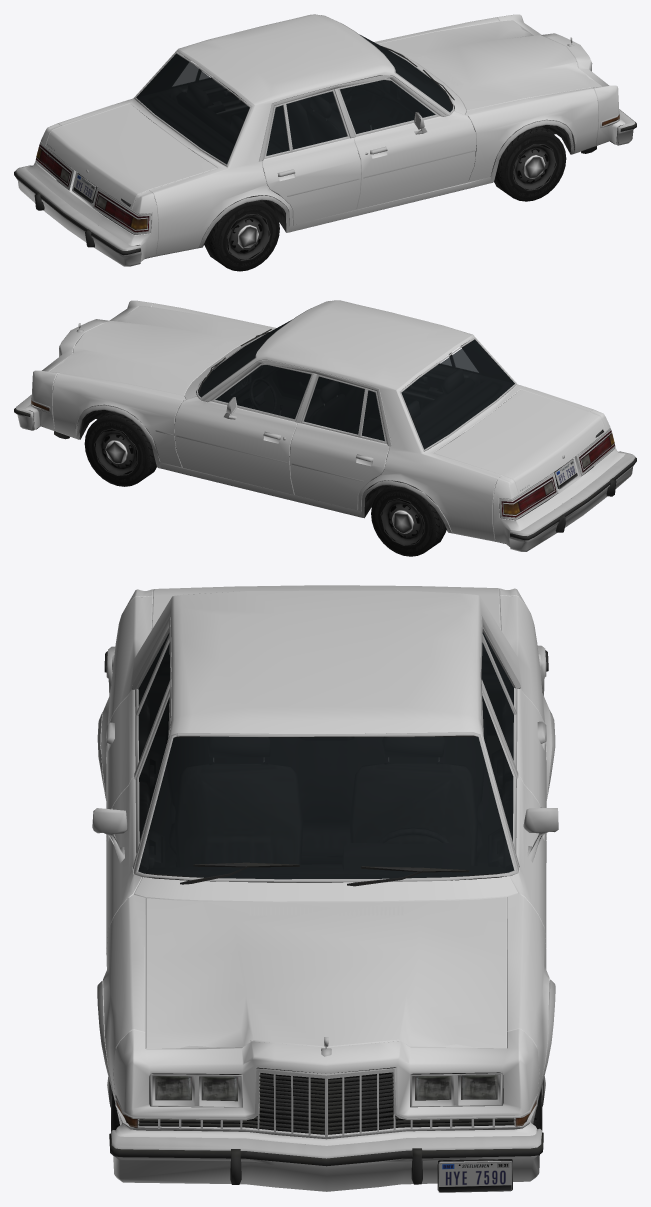
The model's file is car_negot.glb.
The picture shows the model from 3 angles, top to bottom: view 1: azimuth 30°, elevation 25°; view 2: azimuth 150°, elevation 25°; view 3: azimuth 270°, elevation 25°; orthographic projection. The views are drawn at different scales.
Parts seen in each view (by area): view 1: Negotiator80_Hood_Negotiator80_Bodymat_0, Negotiator80_Glass_back_UCB_Lights_and_Glass_Transperent_0, Negotiator80_suspension_UCB_BOTTOM_0, Negotiator80_Interior_UCB_Interiors_2_0, Negotiator80_WheelStock_FL_RB1c_Tire_1k_0, Negotiator80_Headlights_UCB_Lights_and_Glass_0, Negotiator80_Numberplate_rear_Numberplates_Misk_U_0; view 2: Negotiator80_Hood_Negotiator80_Bodymat_0, Negotiator80_Glass_back_UCB_Lights_and_Glass_Transperent_0, Negotiator80_suspension_UCB_BOTTOM_0, Negotiator80_Interior_UCB_Interiors_2_0, Negotiator80_WheelStock_FL_RB1c_Tire_1k_0, Negotiator80_Headlights_UCB_Lights_and_Glass_0, Negotiator80_Numberplate_rear_Numberplates_Misk_U_0; view 3: Negotiator80_Hood_Negotiator80_Bodymat_0, Negotiator80_Glass_back_UCB_Lights_and_Glass_Transperent_0, Negotiator80_Interior_UCB_Interiors_2_0, Negotiator80_suspension_UCB_BOTTOM_0, Negotiator80_Headlights_UCB_Lights_and_Glass_0, Negotiator80_Numberplate_rear_Numberplates_Misk_U_0.
Part boxes in pixels (x1,y1,x2,y2): Negotiator80_Hood_Negotiator80_Bodymat_0: [26, 14, 625, 261]; Negotiator80_Glass_back_UCB_Lights_and_Glass_Transperent_0: [36, 34, 619, 229]; Negotiator80_suspension_UCB_BOTTOM_0: [14, 15, 636, 266]; Negotiator80_Interior_UCB_Interiors_2_0: [137, 47, 454, 216]; Negotiator80_WheelStock_FL_RB1c_Tire_1k_0: [204, 126, 566, 271]; Negotiator80_Headlights_UCB_Lights_and_Glass_0: [37, 118, 616, 229]; Negotiator80_Numberplate_rear_Numberplates_Misk_U_0: [73, 173, 95, 203]; Negotiator80_Hood_Negotiator80_Bodymat_0: [25, 300, 625, 546]; Negotiator80_Glass_back_UCB_Lights_and_Glass_Transperent_0: [31, 320, 614, 514]; Negotiator80_suspension_UCB_BOTTOM_0: [14, 301, 636, 551]; Negotiator80_Interior_UCB_Interiors_2_0: [196, 333, 514, 501]; Negotiator80_WheelStock_FL_RB1c_Tire_1k_0: [84, 411, 446, 556]; Negotiator80_Headlights_UCB_Lights_and_Glass_0: [34, 403, 613, 514]; Negotiator80_Numberplate_rear_Numberplates_Misk_U_0: [555, 459, 577, 489]; Negotiator80_Hood_Negotiator80_Bodymat_0: [101, 585, 551, 1145]; Negotiator80_Glass_back_UCB_Lights_and_Glass_Transperent_0: [116, 632, 536, 1128]; Negotiator80_Interior_UCB_Interiors_2_0: [139, 652, 513, 882]; Negotiator80_suspension_UCB_BOTTOM_0: [92, 616, 558, 1191]; Negotiator80_Headlights_UCB_Lights_and_Glass_0: [129, 1075, 522, 1123]; Negotiator80_Numberplate_rear_Numberplates_Misk_U_0: [438, 1161, 512, 1192].
Bounding box in the file's own units: 4.94 × 1.39 × 1.87.
Materials: 8 (7 with a texture image).
